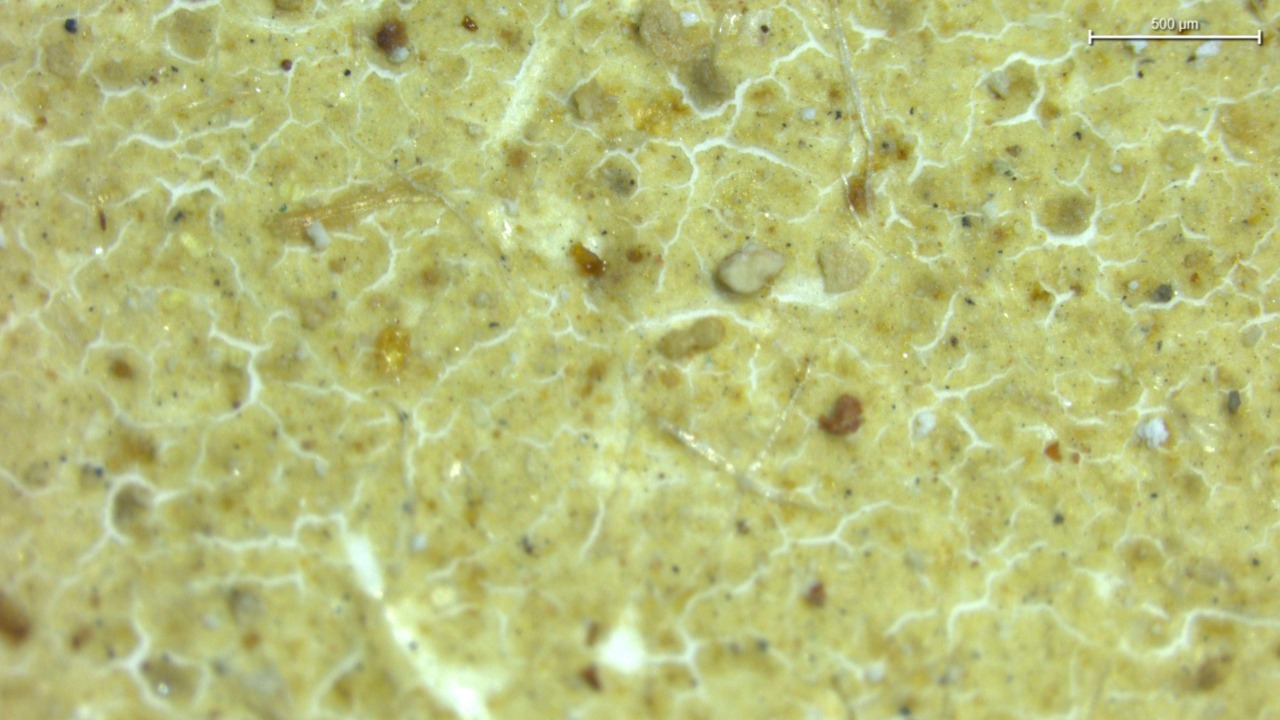microplastic_fragment: (717, 242, 784, 295), (570, 82, 616, 123), (306, 222, 331, 251), (1140, 419, 1167, 444)
